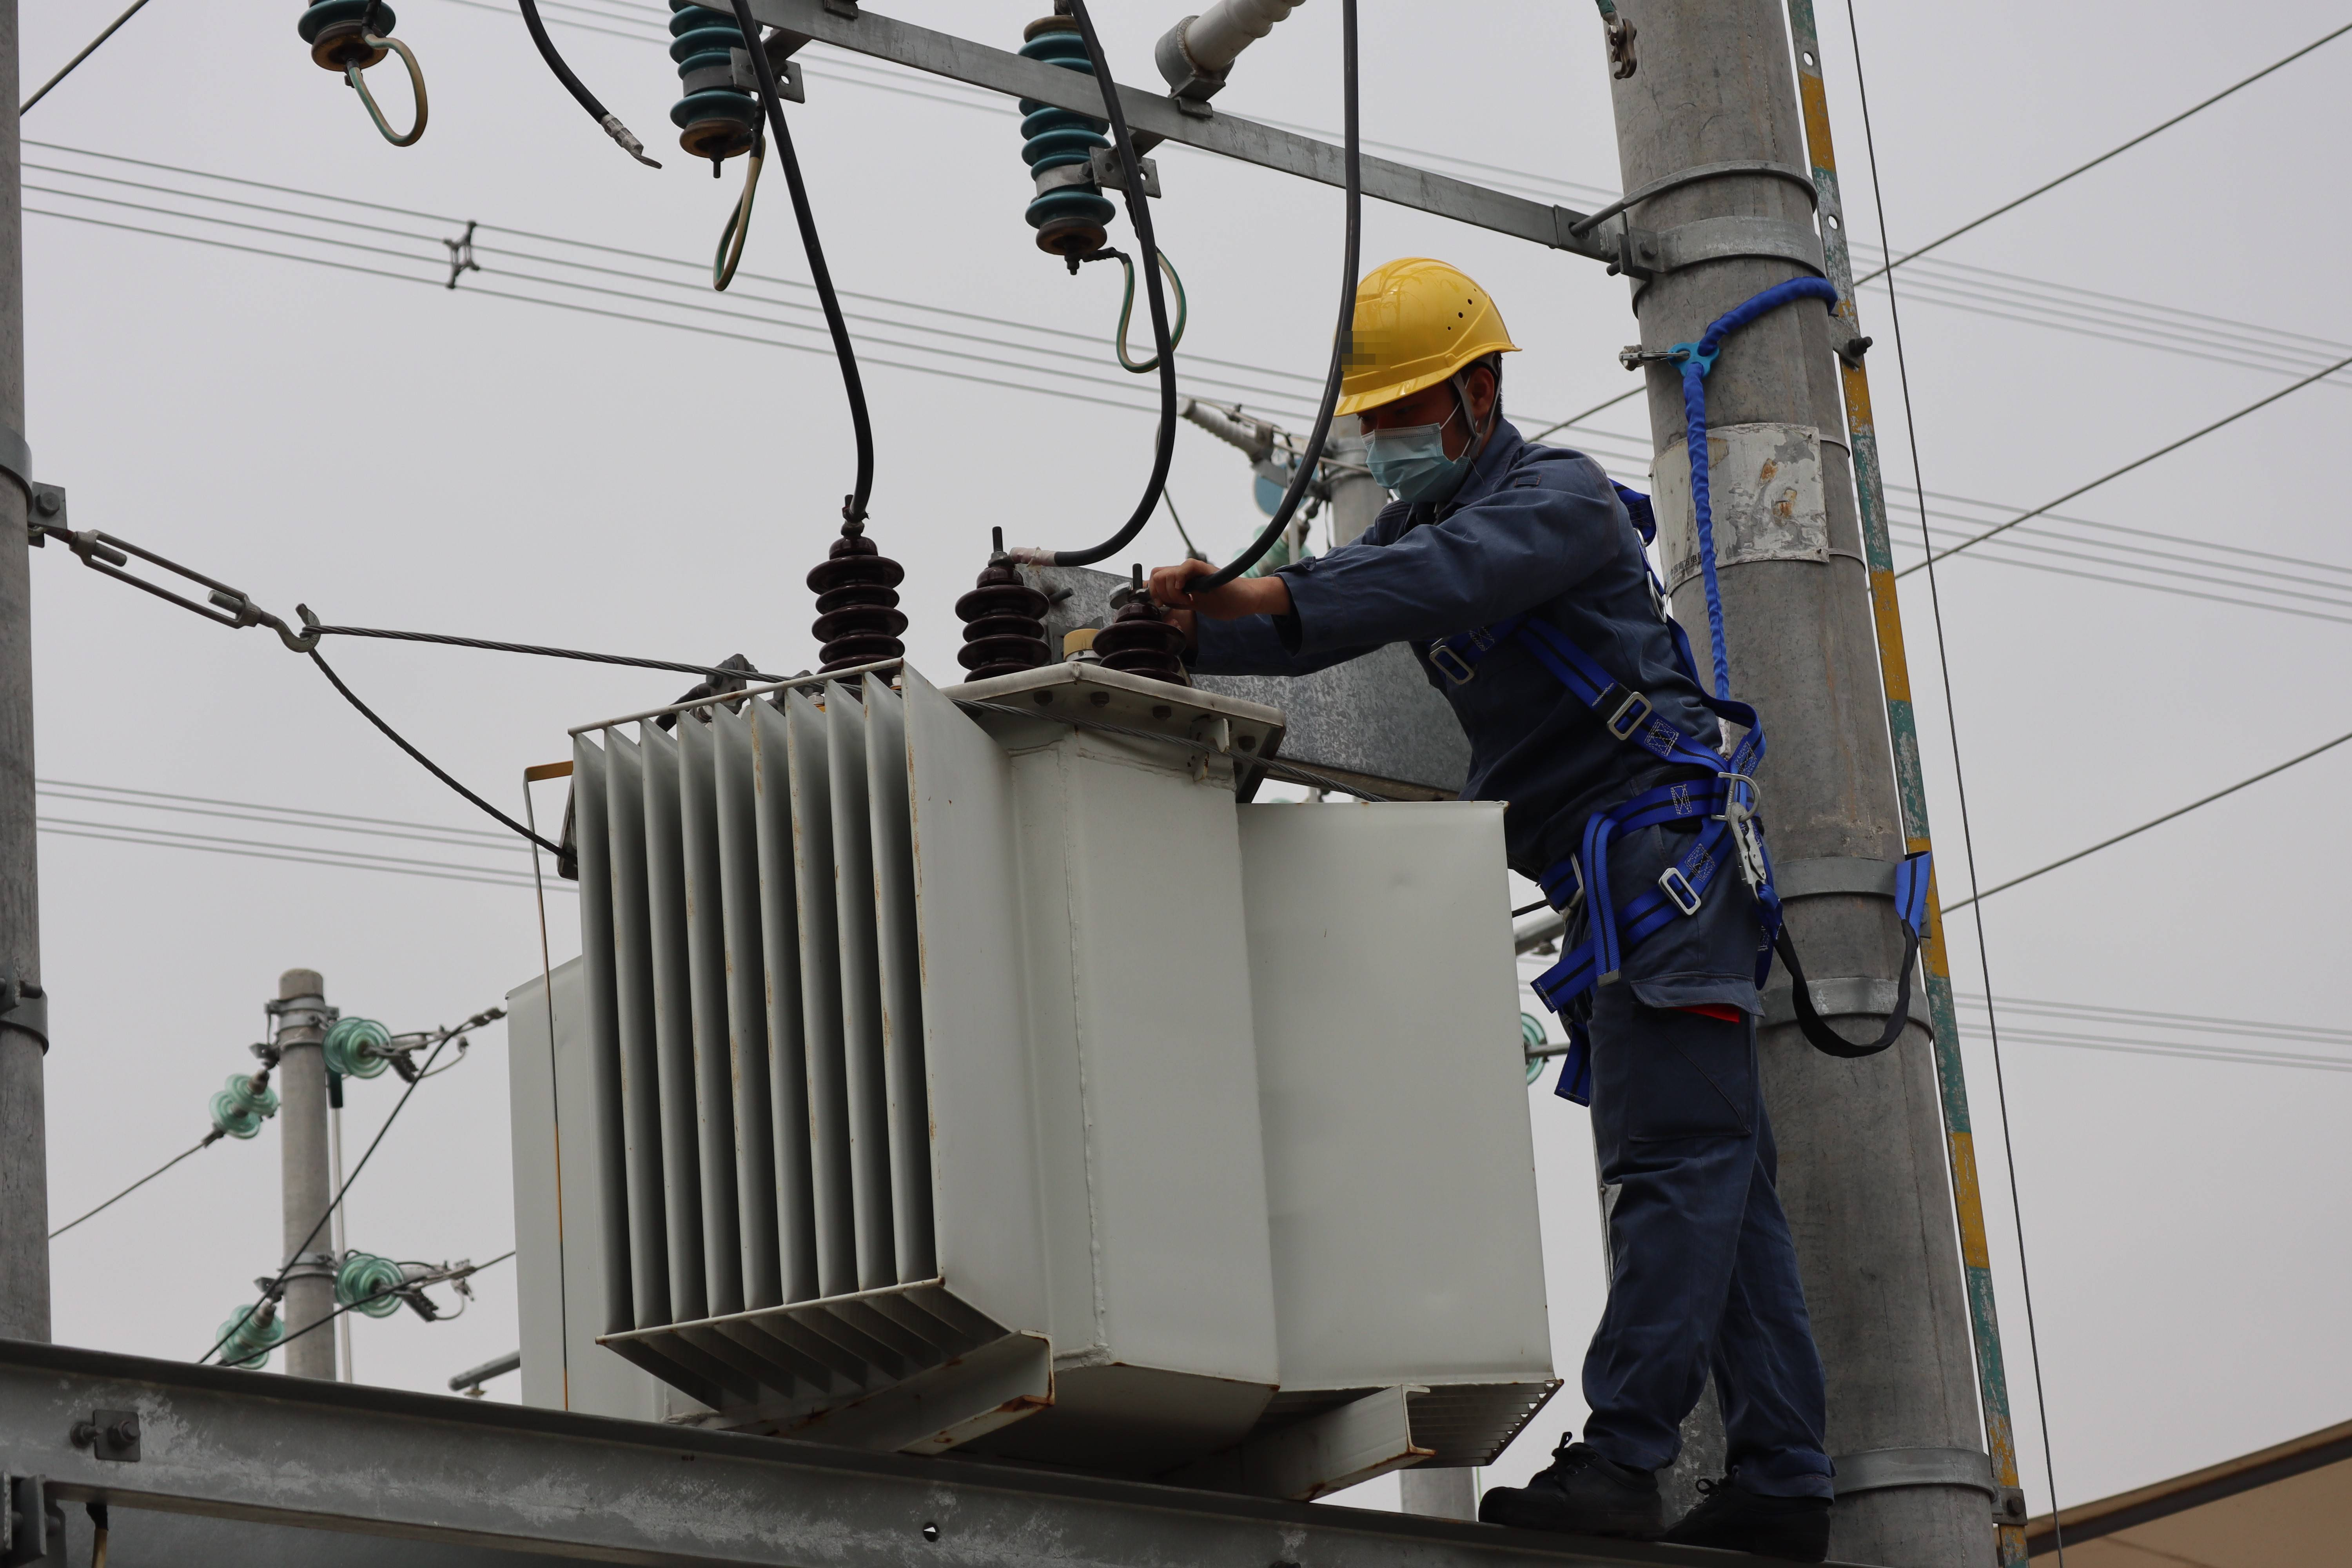downsuit: (1529, 808, 1824, 1493)
upsuit: (1251, 450, 1790, 892)
